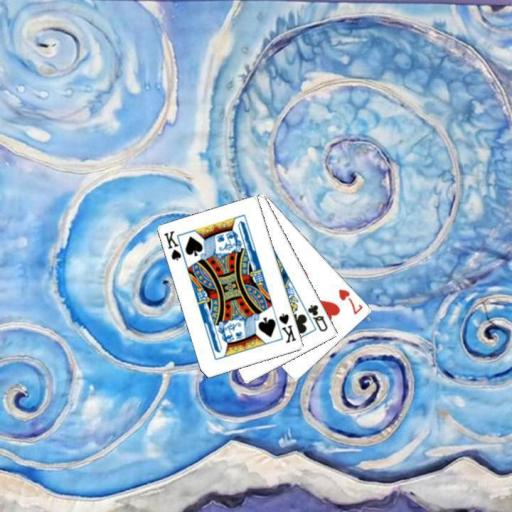card-corner: (161, 228, 187, 263), (336, 286, 364, 316), (304, 302, 330, 334), (276, 310, 298, 345)
